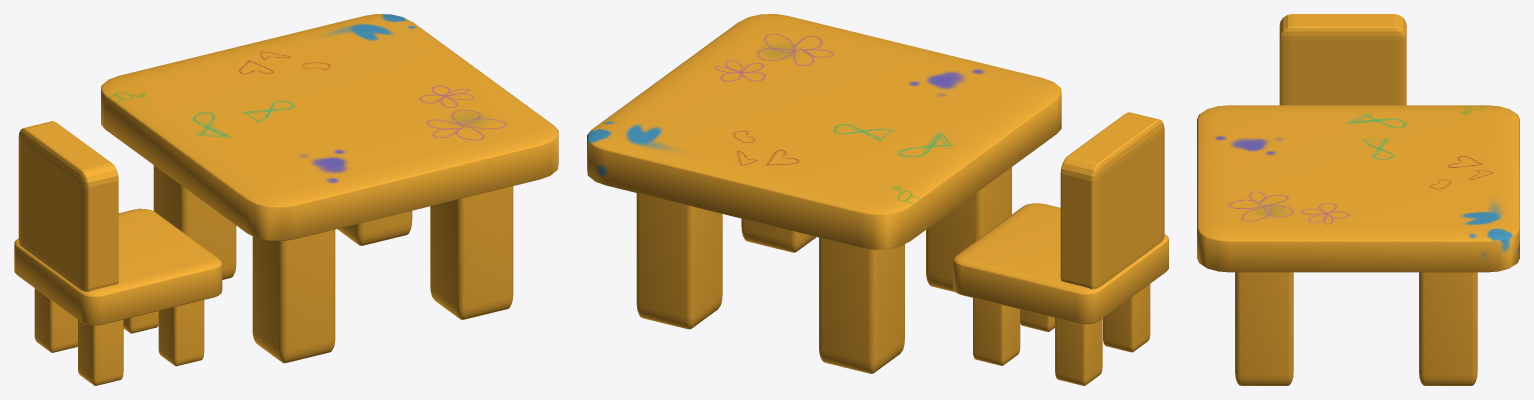
The model's file is gelbtisch.fbx.
The picture shows the model from 3 angles, left to right: view 1: azimuth 30°, elevation 25°; view 2: azimuth 150°, elevation 25°; view 3: azimuth 270°, elevation 25°; orthographic projection. The views are drawn at different scales.
Parts seen in each view (by area): view 1: Bein2.001, Bein3; view 2: Bein2.001, Bein3; view 3: Bein2.001, Bein3.
Boxes of the visible parts, left/top/right/bottom form: Bein2.001: left=101, top=14, right=558, bottom=363; Bein3: left=14, top=121, right=222, bottom=385; Bein2.001: left=587, top=14, right=1061, bottom=373; Bein3: left=953, top=112, right=1168, bottom=385; Bein2.001: left=1197, top=105, right=1519, bottom=385; Bein3: left=1279, top=14, right=1406, bottom=105.
Size of the model in its own units: 289 by 135 by 200.
2 materials, 2 textured.
